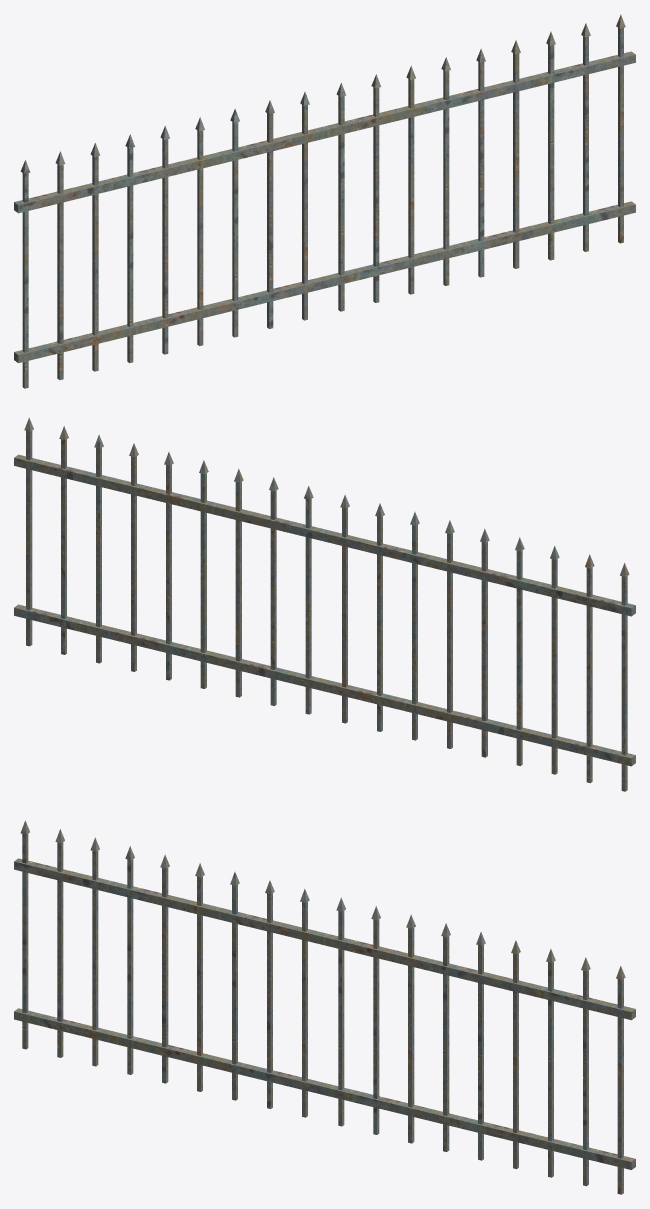
Rendered from fence16.FBX.
The picture shows the model from 3 angles, top to bottom: view 1: azimuth 30°, elevation 25°; view 2: azimuth 150°, elevation 25°; view 3: azimuth 330°, elevation 25°; orthographic projection.
Parts seen in each view (by area): view 1: metal_fence_large_spear_top; view 2: metal_fence_large_spear_top; view 3: metal_fence_large_spear_top.
Part boxes in pixels (x1,y1,x2,y2): metal_fence_large_spear_top: [14, 14, 635, 388]; metal_fence_large_spear_top: [14, 417, 635, 791]; metal_fence_large_spear_top: [14, 820, 635, 1194].
Size of the model in its own units: 506 by 178 by 6.3.
